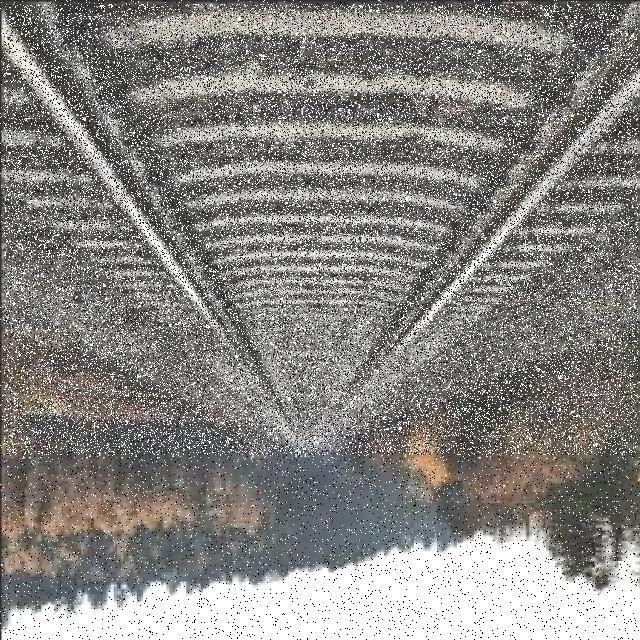rail: (4, 4, 638, 455)
